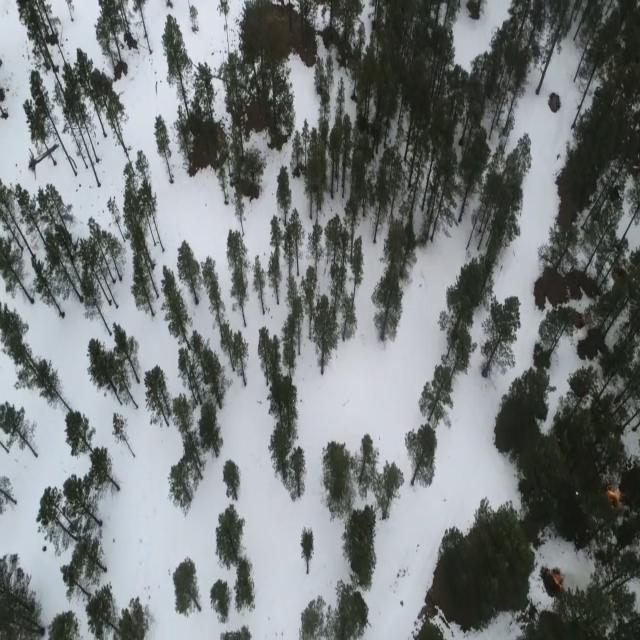Fire: (547, 560, 568, 595), (606, 475, 624, 513)
